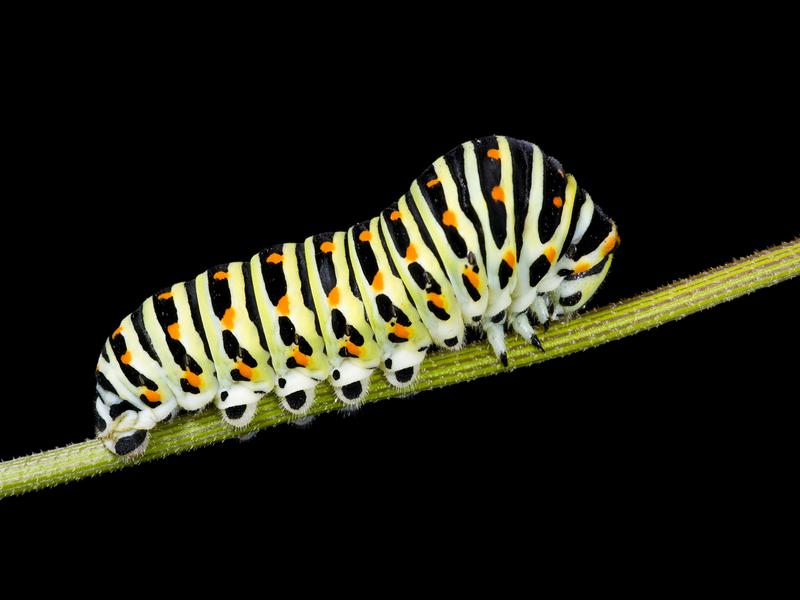Rice_horned_caterpillar: (85, 124, 624, 460)
